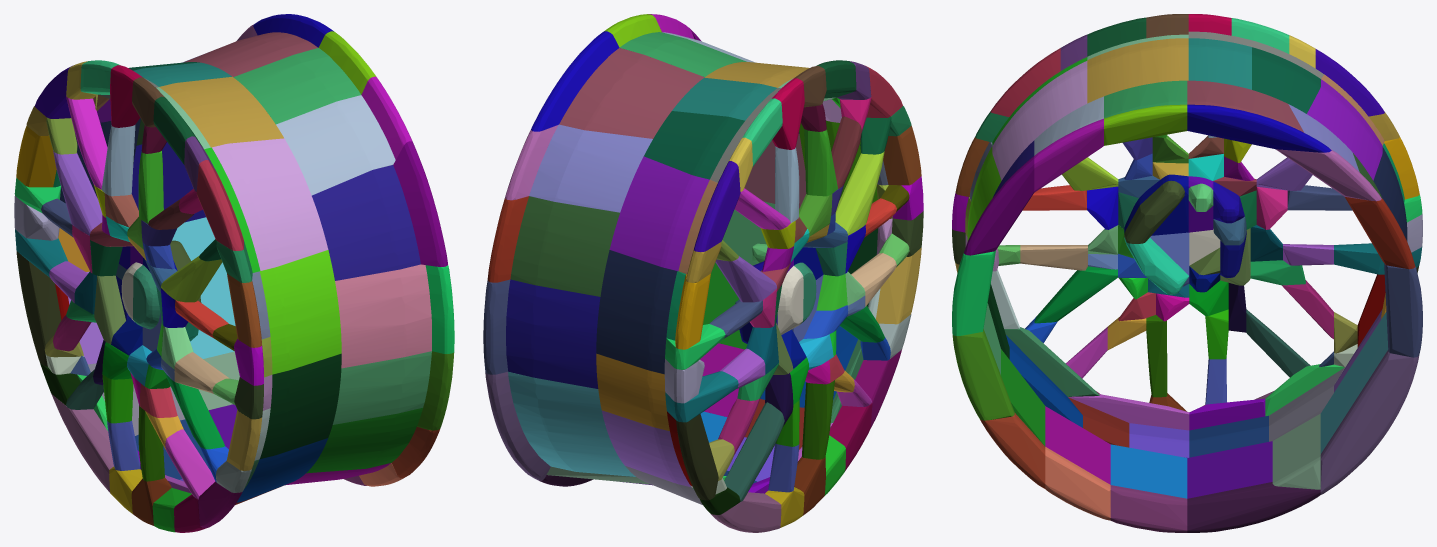
The model's file is tire_rim.obj.
3 views of the same model, side by side, from view 1: azimuth 30°, elevation 25°; view 2: azimuth 150°, elevation 25°; view 3: azimuth 270°, elevation 25° (orthographic). The views are drawn at different scales.
Visible parts, largest first — view 1: geometry_49, geometry_18, geometry_24, geometry_17, geometry_6, geometry_25, geometry_10, geometry_37, geometry_3, geometry_8, geometry_11, geometry_2 (+80 smaller); view 2: geometry_20, geometry_19, geometry_13, geometry_2, geometry_21, geometry_12, geometry_51, geometry_66, geometry_75, geometry_40, geometry_60, geometry_5 (+87 smaller); view 3: geometry_1, geometry_37, geometry_26, geometry_49, geometry_5, geometry_27, geometry_30, geometry_29, geometry_16, geometry_11, geometry_51, geometry_0 (+84 smaller).
Boxes of the visible parts, box(x1,y1,x2,y2) form: geometry_49: box(212, 138, 328, 270); geometry_18: box(312, 165, 420, 280); geometry_24: box(335, 264, 431, 368); geometry_17: box(259, 250, 341, 374); geometry_6: box(276, 95, 395, 195); geometry_25: box(260, 353, 341, 458); geometry_10: box(233, 48, 360, 124); geometry_37: box(159, 76, 283, 147); geometry_3: box(332, 351, 431, 424); geometry_8: box(306, 408, 422, 473); geometry_11: box(393, 141, 447, 266); geometry_2: box(172, 217, 235, 358); geometry_20: box(506, 279, 600, 388); geometry_19: box(510, 196, 619, 296); geometry_13: box(559, 48, 704, 138); geometry_2: box(508, 371, 635, 476); geometry_21: box(596, 250, 677, 374); geometry_12: box(529, 124, 652, 212); geometry_51: box(609, 156, 709, 270); geometry_66: box(644, 111, 744, 179); geometry_75: box(596, 353, 669, 430); geometry_40: box(601, 410, 691, 487); geometry_60: box(672, 77, 776, 120); geometry_5: box(531, 31, 619, 131); geometry_1: box(1320, 350, 1419, 494); geometry_37: box(1087, 38, 1188, 103); geometry_26: box(1187, 482, 1320, 532); geometry_49: box(992, 61, 1087, 180); geometry_5: box(1187, 104, 1331, 152); geometry_27: box(1187, 441, 1272, 498); geometry_30: box(952, 329, 1014, 420); geometry_29: box(1110, 444, 1187, 498); geometry_16: box(1384, 263, 1422, 357); geometry_11: box(964, 156, 1034, 255); geometry_51: box(1307, 79, 1382, 180); geometry_0: box(1272, 413, 1320, 489).
Bounding box in the file's own units: 0.2638 × 0.5182 × 0.5182.
